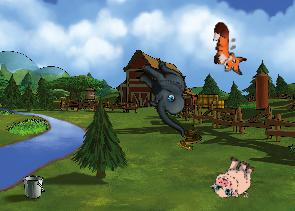elephant: (122, 54, 210, 137)
fox: (211, 22, 247, 75)
pig: (208, 152, 259, 205)
